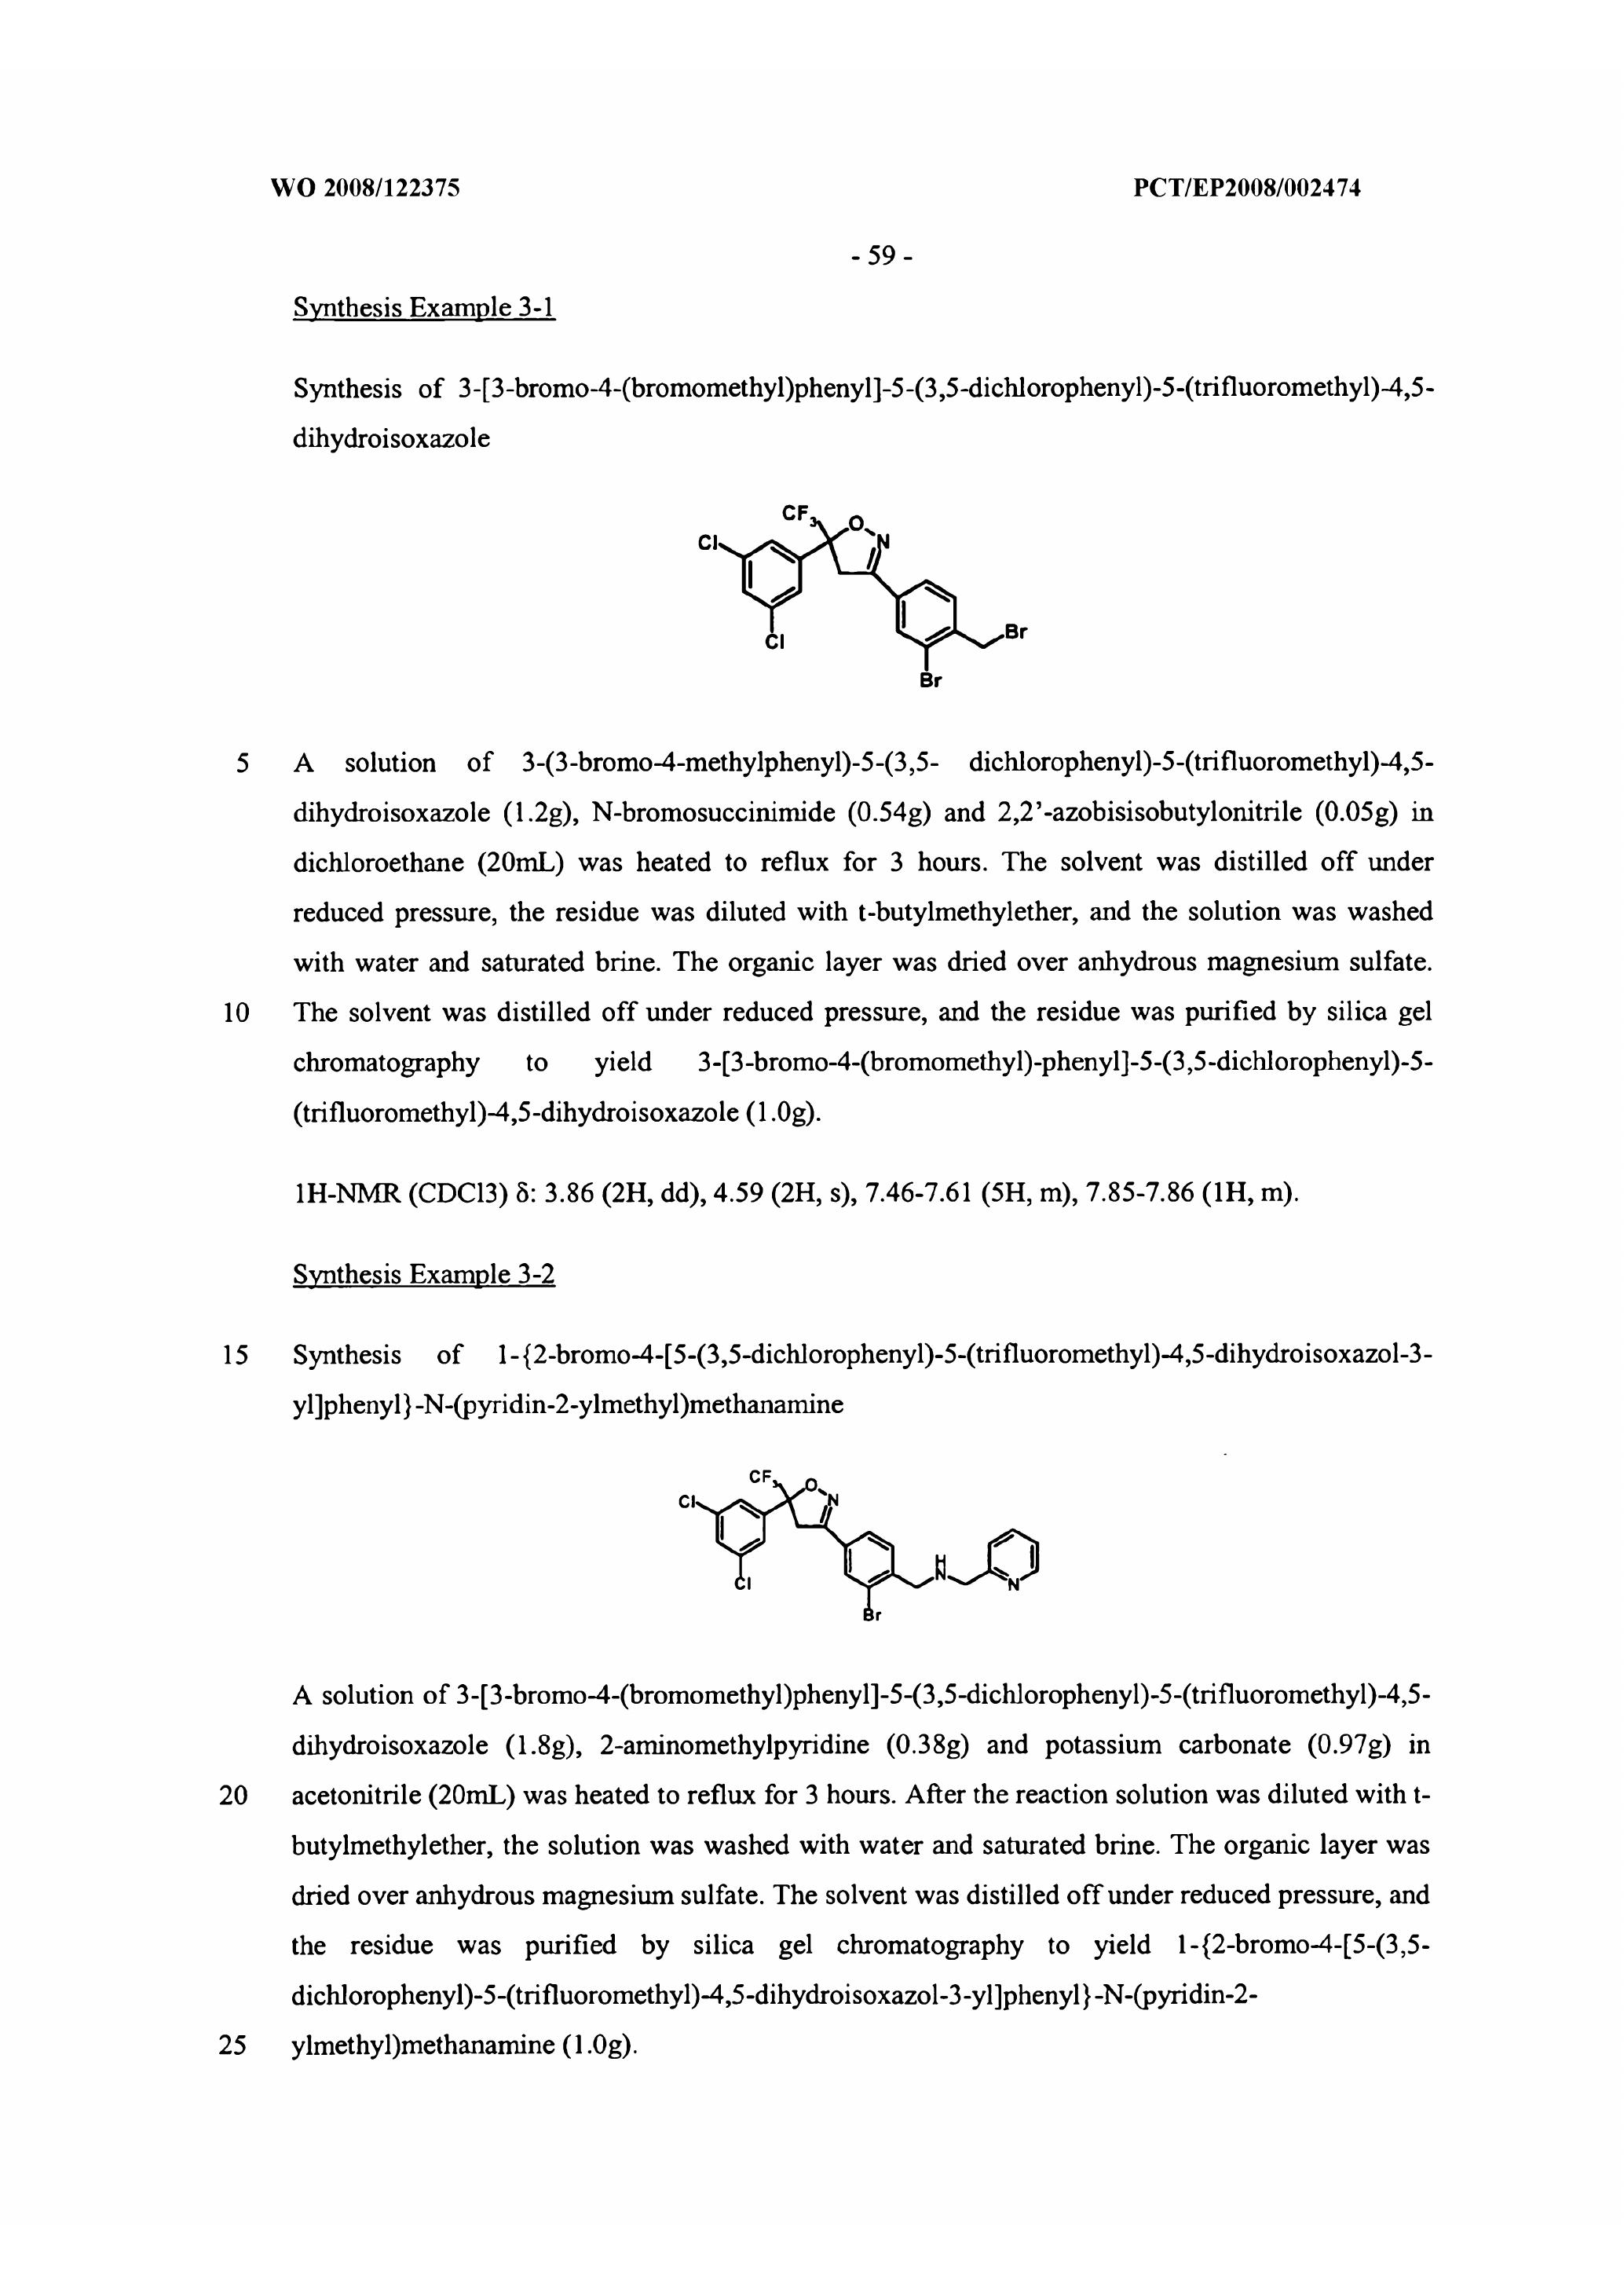relevant-structures: (661, 459, 1107, 735), (657, 1449, 1132, 1644)
